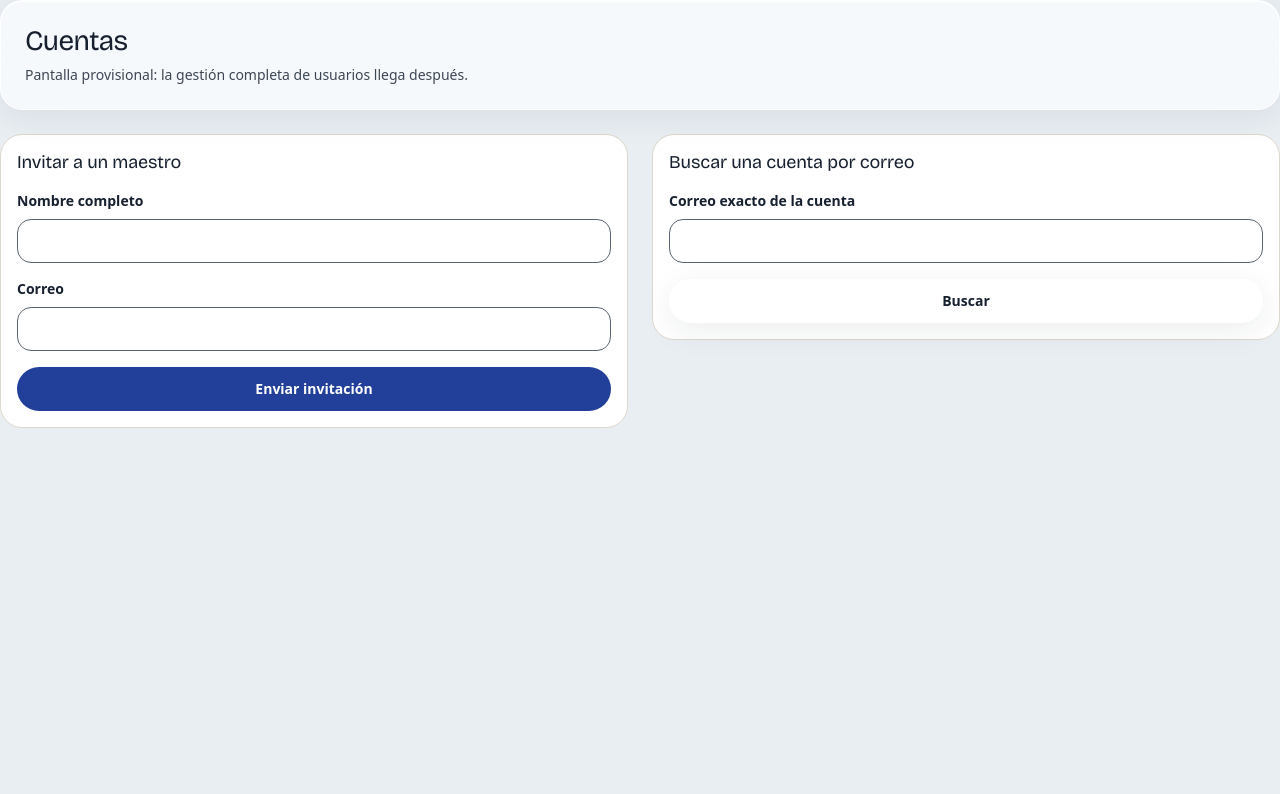
ataque (AUTH-02b r1): la temporal se ve una sola vez › al salir de la pantalla, la temporal no queda en la caché de mutaciones (gcTime 0)
Type "carla@ejemplo.mx" into the field labelled "Correo exacto de la cuenta". click: (966, 241)
box: [669,219,1263,263]
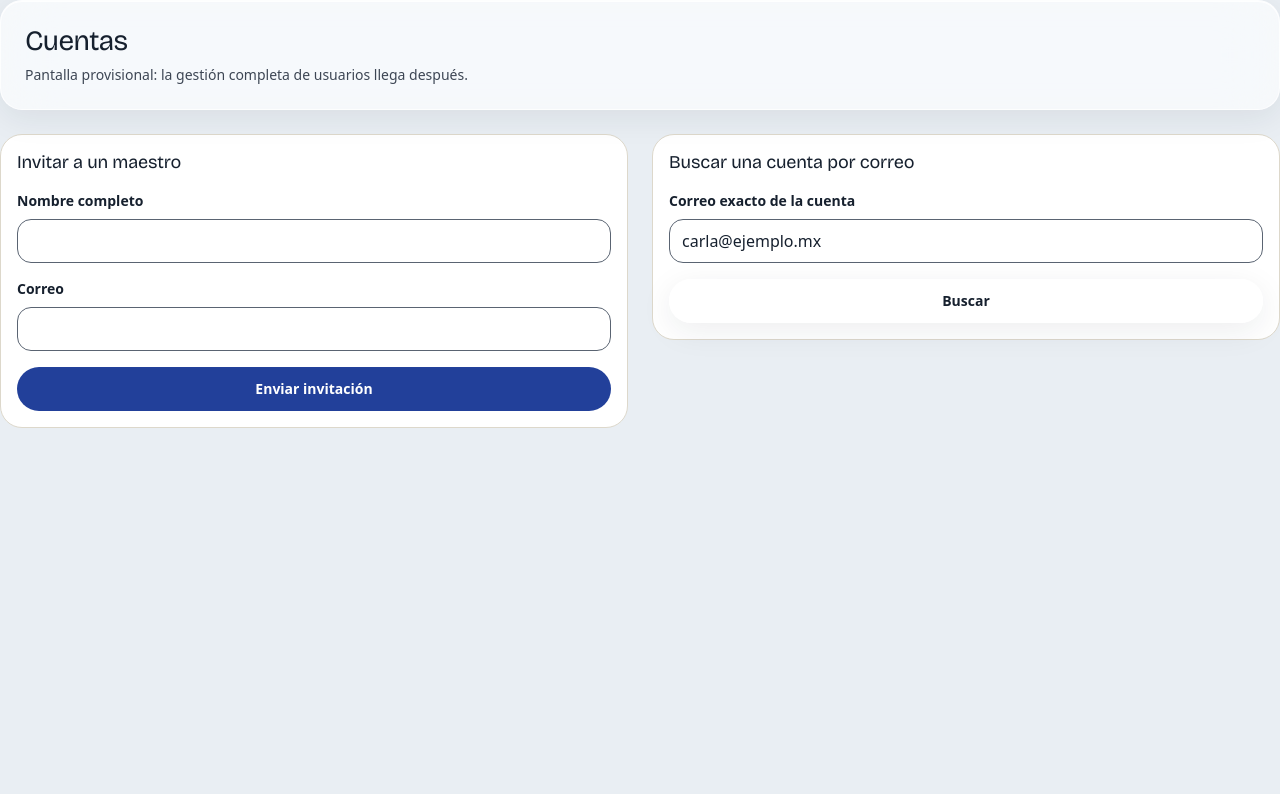
Click the button "Buscar". click: (966, 301)
box: [669,279,1263,323]
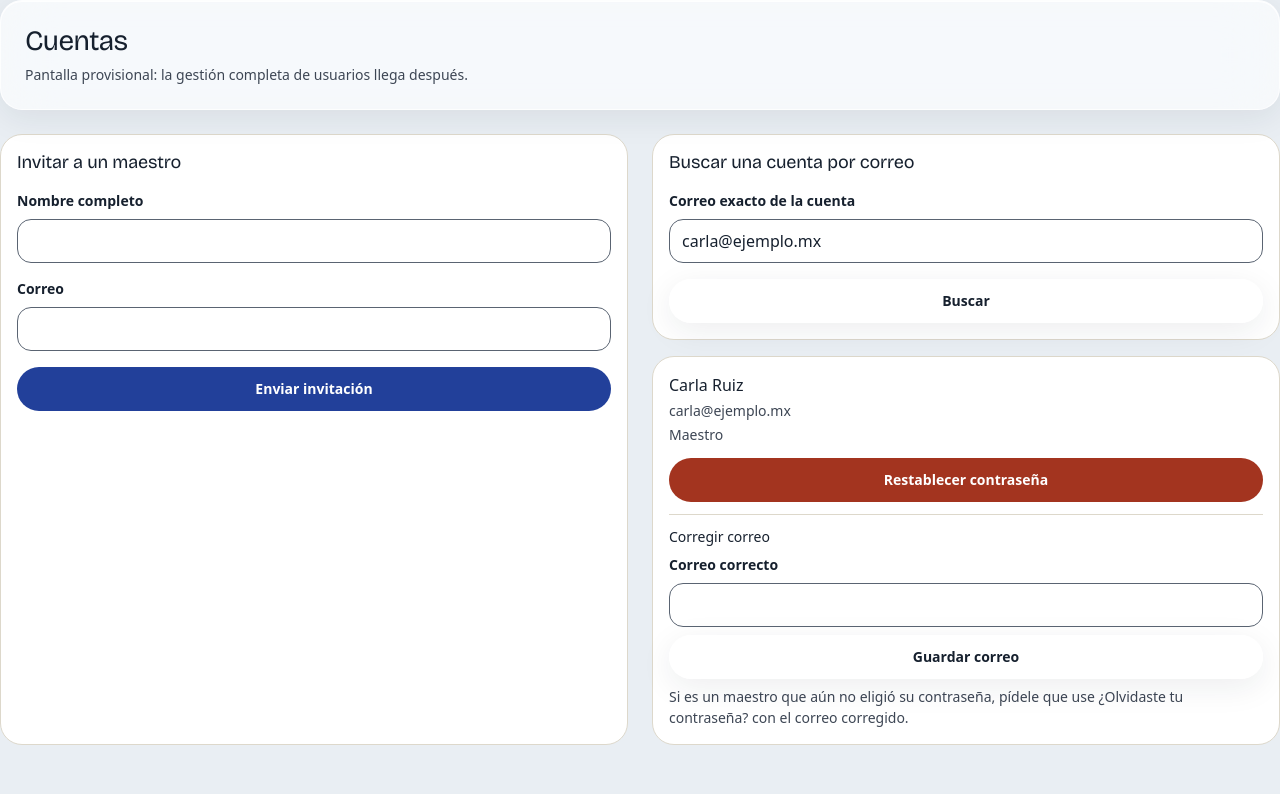
Expected: the text "Carla Ruiz" is shown, [669,374,744,396]
Click the button "Restablecer contraseña". click: (966, 480)
box: [669,458,1263,502]
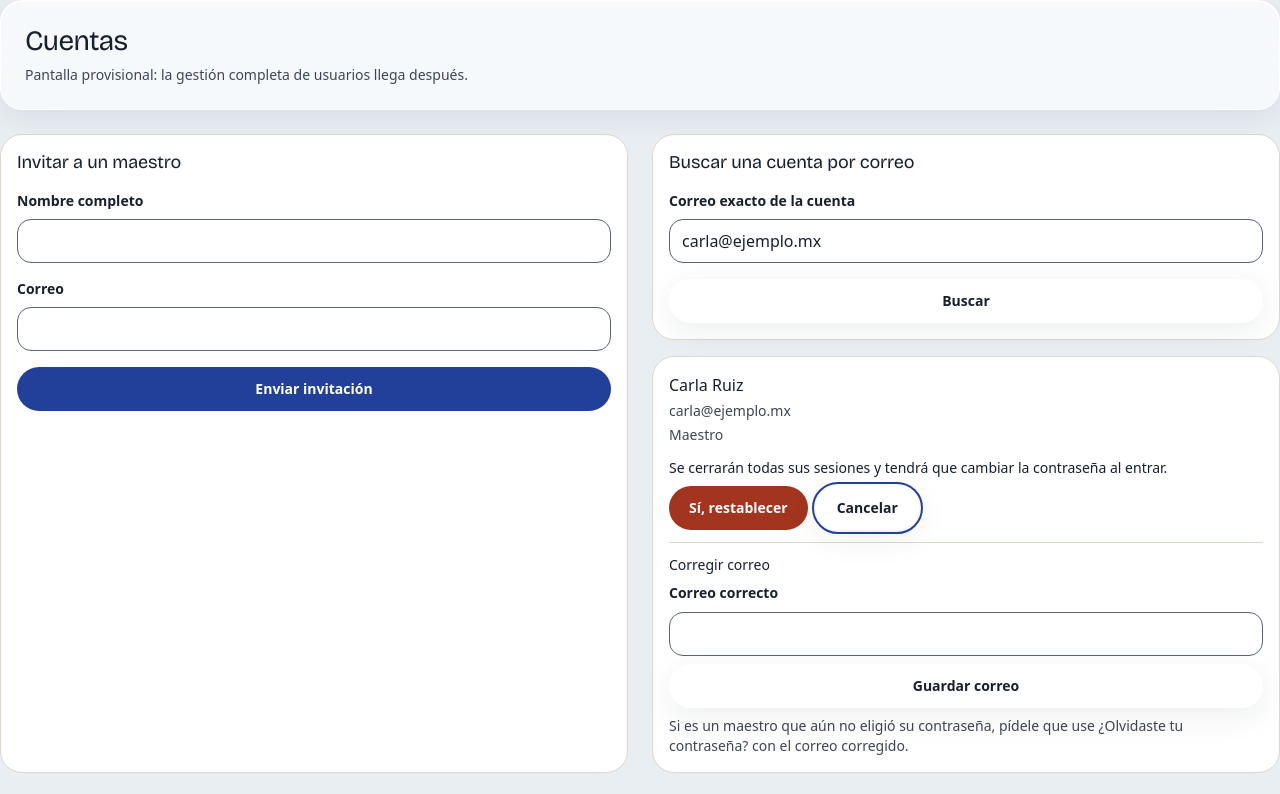
Click the button "Sí, restablecer". click: (738, 508)
box: [669,486,808,530]
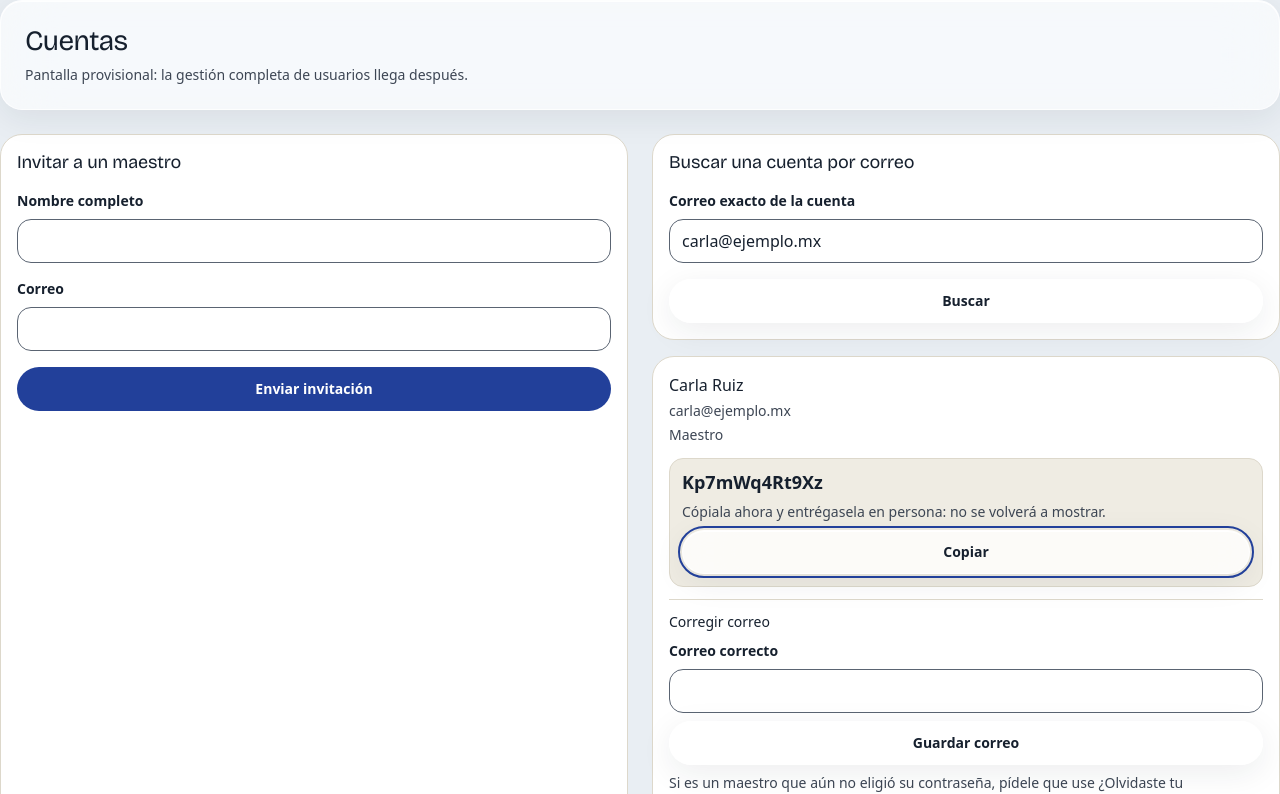
Expected: the text "Kp7mWq4Rt9Xz" is shown, [682,470,823,494]
